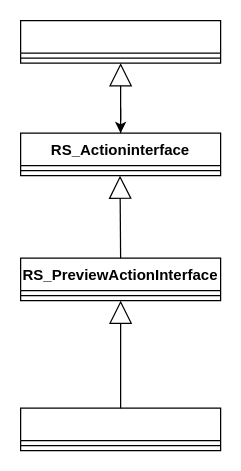
Image size: 241x471. Some labels were removed from this diagram. Here are the shapes that lost their labels. From the top down, the centre of each, then its label:
At (120,41): "RS_Snapper".
At (120,429): "RS_ActionDrawLine".
